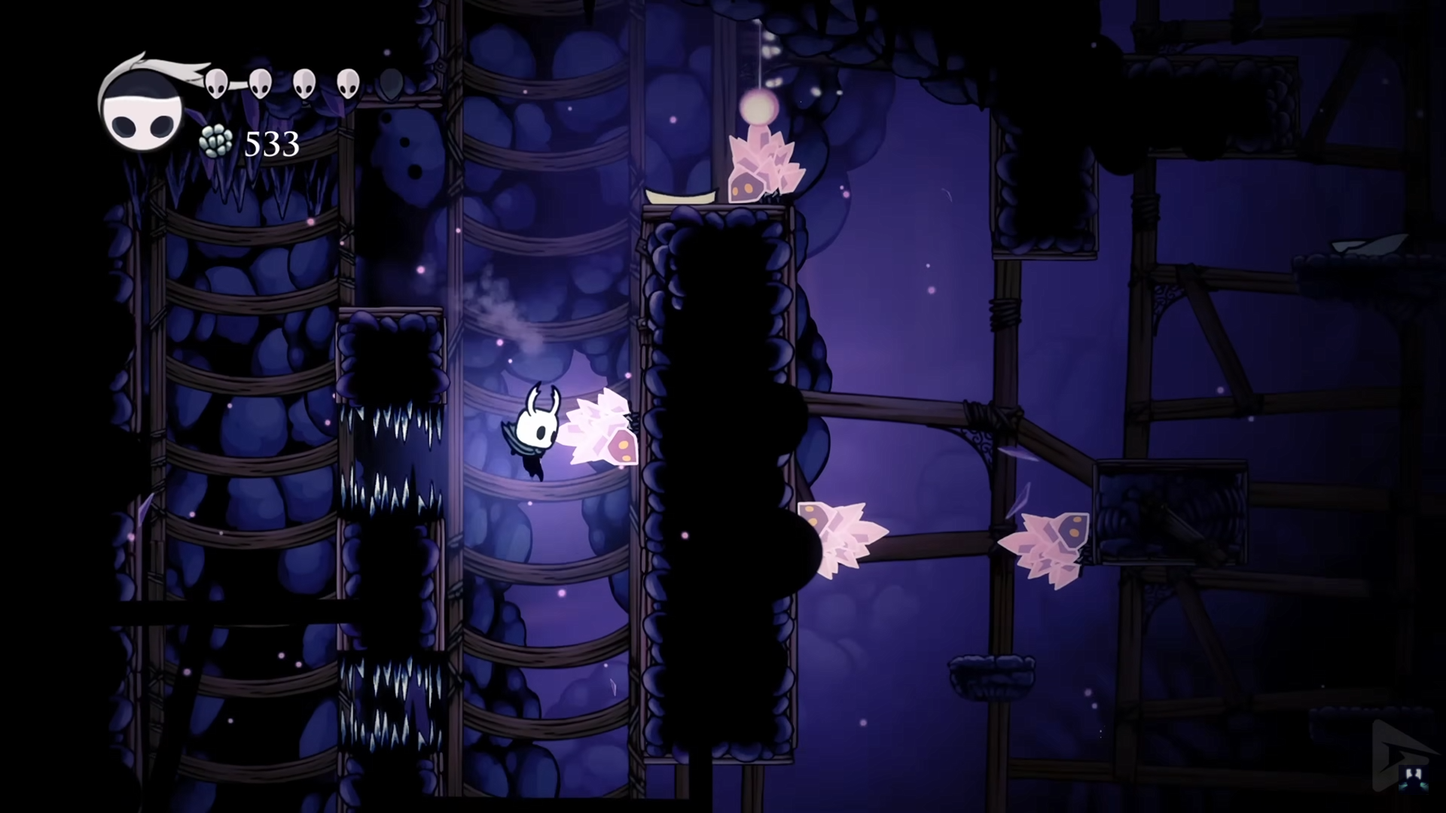HK: (502, 380, 564, 480)
